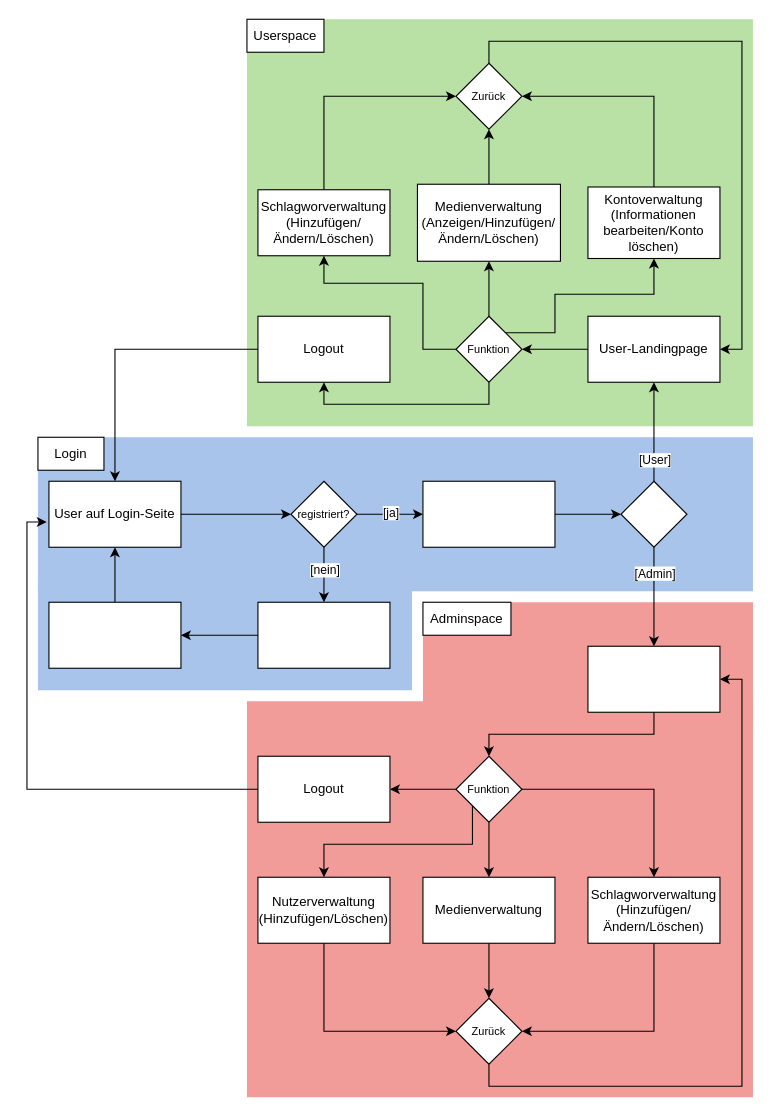
Image size: 772x1117. Some labels were removed from this diagram. The centre of each missing label's shape, as x and y in pixels:
"Admin-Landingpage" belongs at pixel 653 678.
"kein Login vorhanden" belongs at pixel 323 634.
"Login als" belongs at pixel 653 513.
"Login vorhanden" belongs at pixel 488 513.
"Selbstregistrierung" belongs at pixel 114 634.
